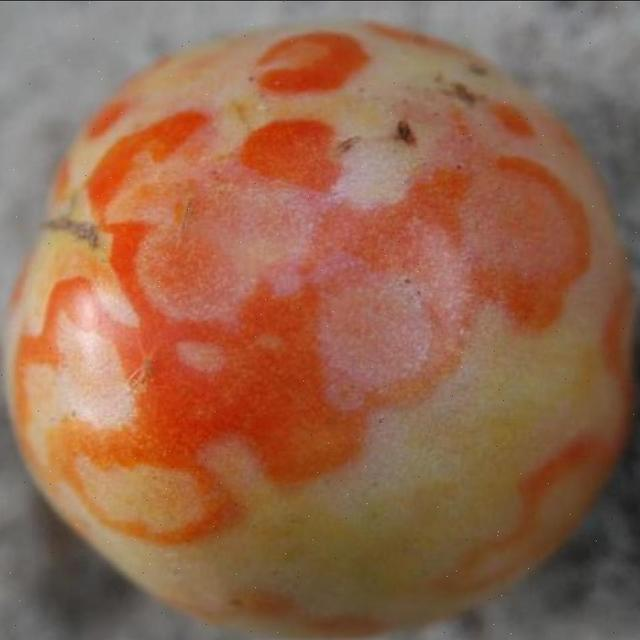Spotted wilt Virus Fruit: (1, 10, 422, 427)
